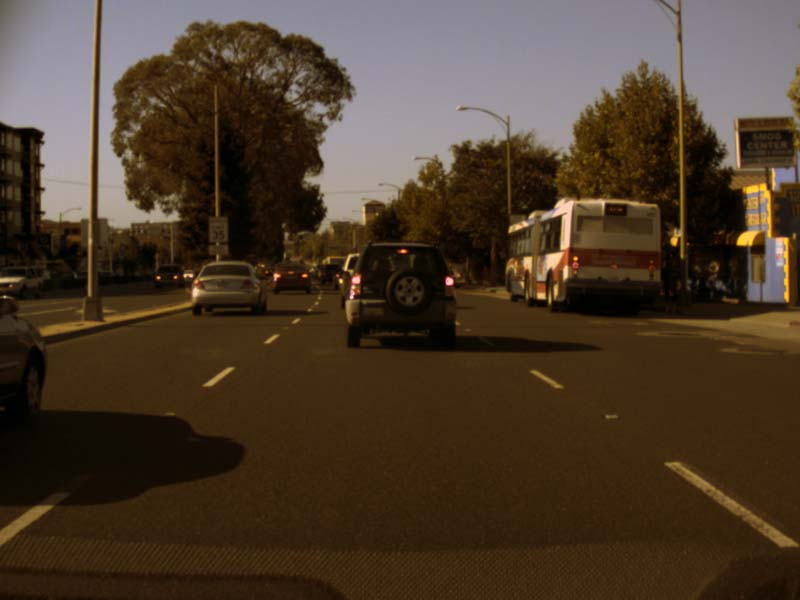Green: (298, 235, 302, 243)
